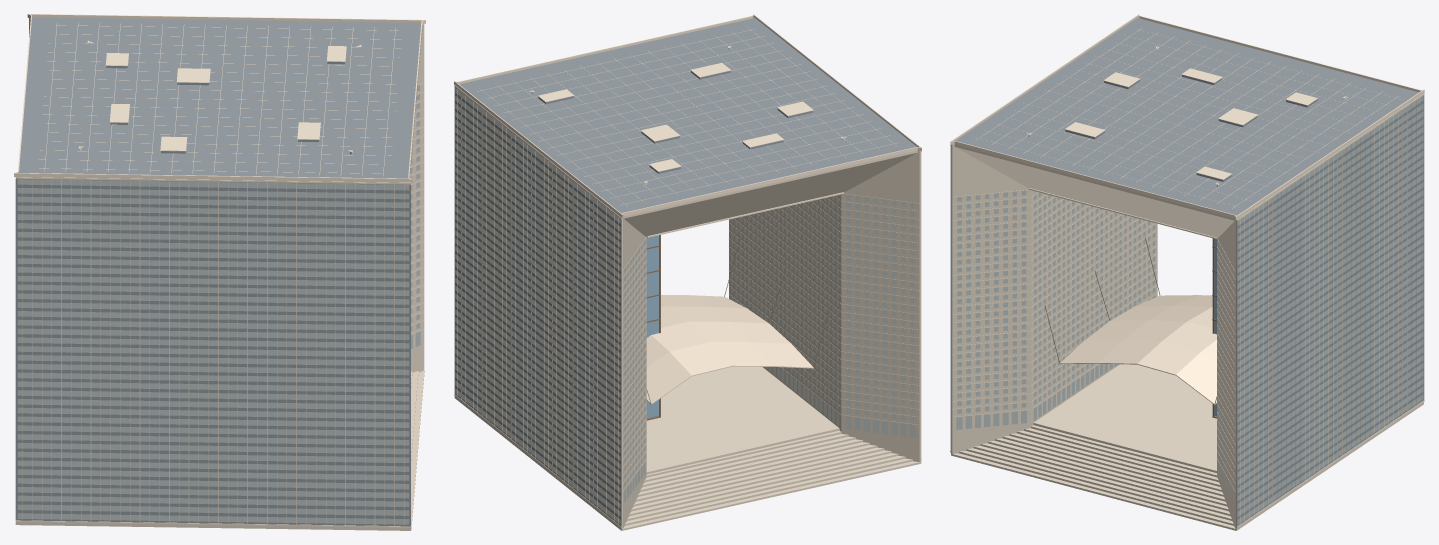
File: detail.glb
3 views of the same model, side by side, from view 1: azimuth 30°, elevation 25°; view 2: azimuth 150°, elevation 25°; view 3: azimuth 270°, elevation 25° (orthographic). The views are drawn at different scales.
Parts seen in each view (by area): view 1: roof, window, trim, stone; view 2: roof, stone, window, trim, glass, metal; view 3: roof, stone, window, trim, metal.
Part boxes in pixels (x1,y1,x2,y2): roof: [15, 17, 421, 526]; window: [17, 85, 420, 524]; trim: [14, 14, 425, 527]; stone: [15, 18, 424, 530]; roof: [454, 17, 916, 527]; stone: [454, 150, 921, 530]; window: [455, 88, 915, 524]; trim: [454, 14, 921, 528]; glass: [646, 235, 658, 417]; metal: [646, 235, 829, 420]; roof: [950, 17, 1424, 527]; stone: [951, 144, 1423, 530]; window: [956, 96, 1423, 524]; trim: [950, 14, 1424, 528]; metal: [1044, 237, 1216, 418].
Size of the model in its own units: 152 by 110 by 151.
